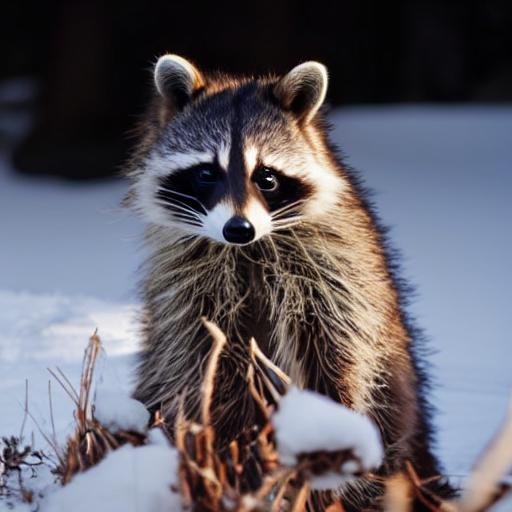raccoon: (110, 46, 453, 501)
